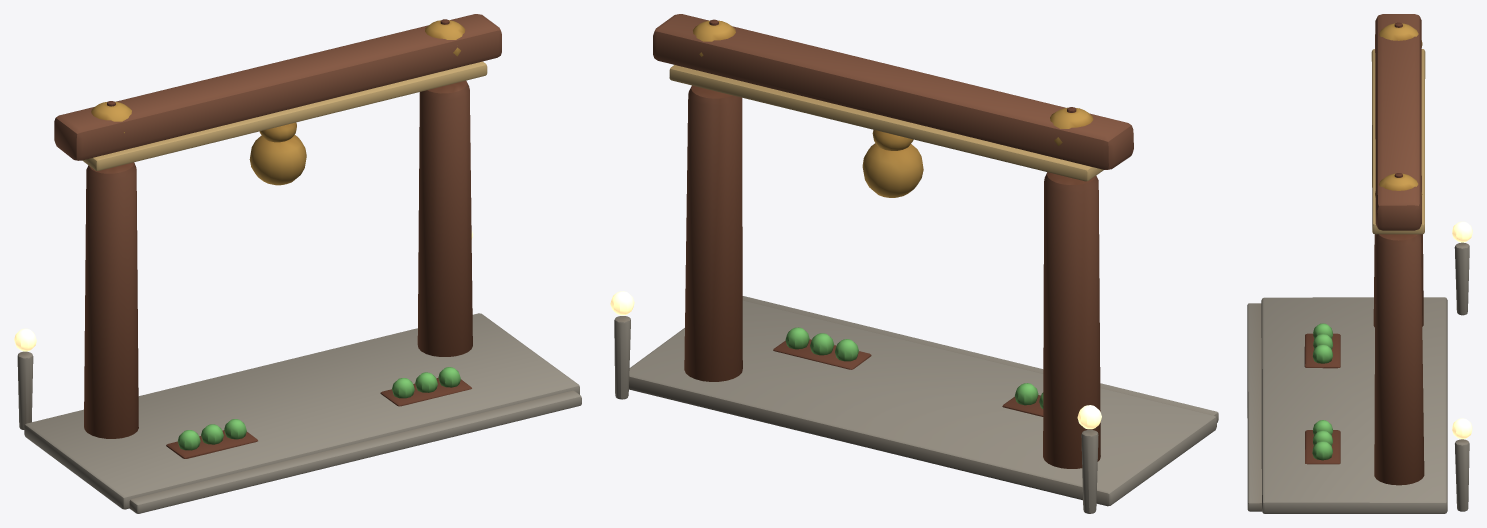
The picture shows the model from 3 angles, left to right: view 1: azimuth 30°, elevation 25°; view 2: azimuth 150°, elevation 25°; view 3: azimuth 270°, elevation 25°; orthographic projection. The views are drawn at different scales.
Visible parts, largest first — view 1: gate_489f09ae; view 2: gate_489f09ae; view 3: gate_489f09ae.
Boxes of the visible parts, x1,y1,x2,y2 form: gate_489f09ae: (14,14,581,513); gate_489f09ae: (610,14,1218,513); gate_489f09ae: (1247,14,1472,513).
Bounding box in the file's own units: 5.53 × 3.92 × 2.55.
